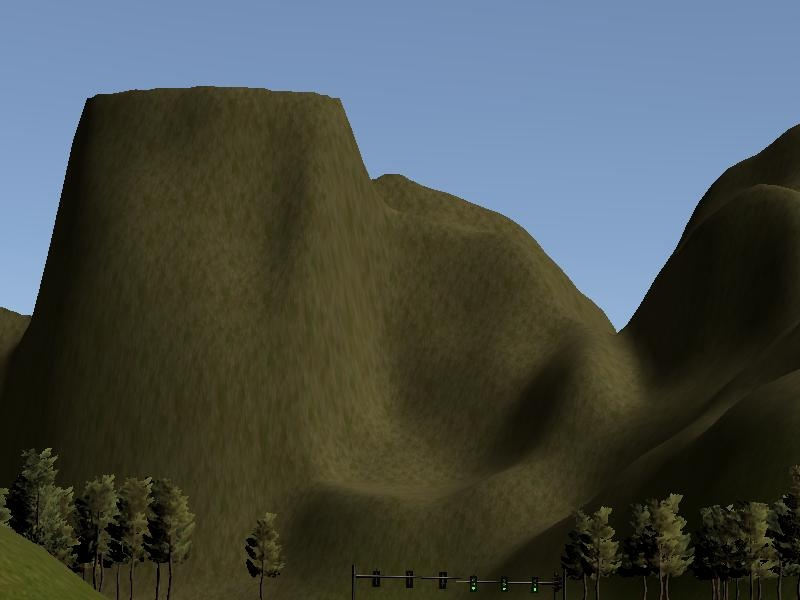green: (469, 576, 478, 593), (532, 577, 539, 594), (501, 577, 507, 593)
